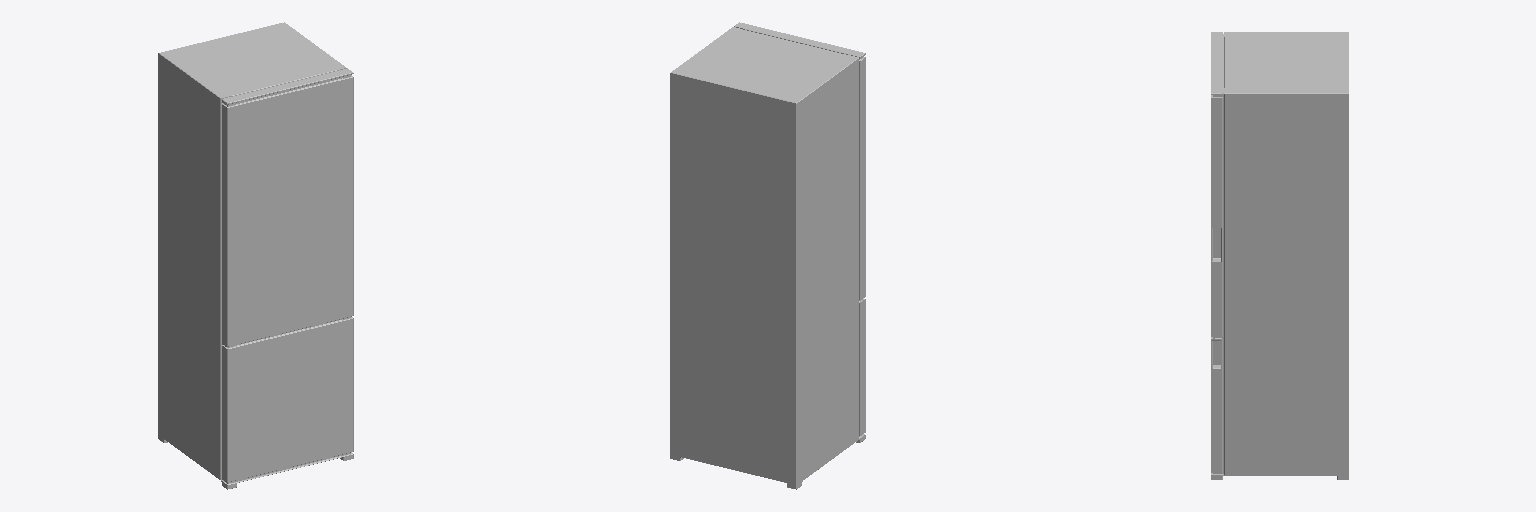
File: fridgeMedgang_ikea.obj
3 renders of one model, left to right at view 1: azimuth 30°, elevation 25°; view 2: azimuth 150°, elevation 25°; view 3: azimuth 270°, elevation 25°, orthographic.
Parts seen in each view (by area): view 1: fridge_export_Cube; view 2: fridge_export_Cube; view 3: fridge_export_Cube.
Boxes of the visible parts, <box> form: fridge_export_Cube: <box>158,22,353,489</box>; fridge_export_Cube: <box>670,22,865,489</box>; fridge_export_Cube: <box>1211,32,1348,479</box>.
Bounding box in the file's own units: 0.63 × 1.84 × 0.595.